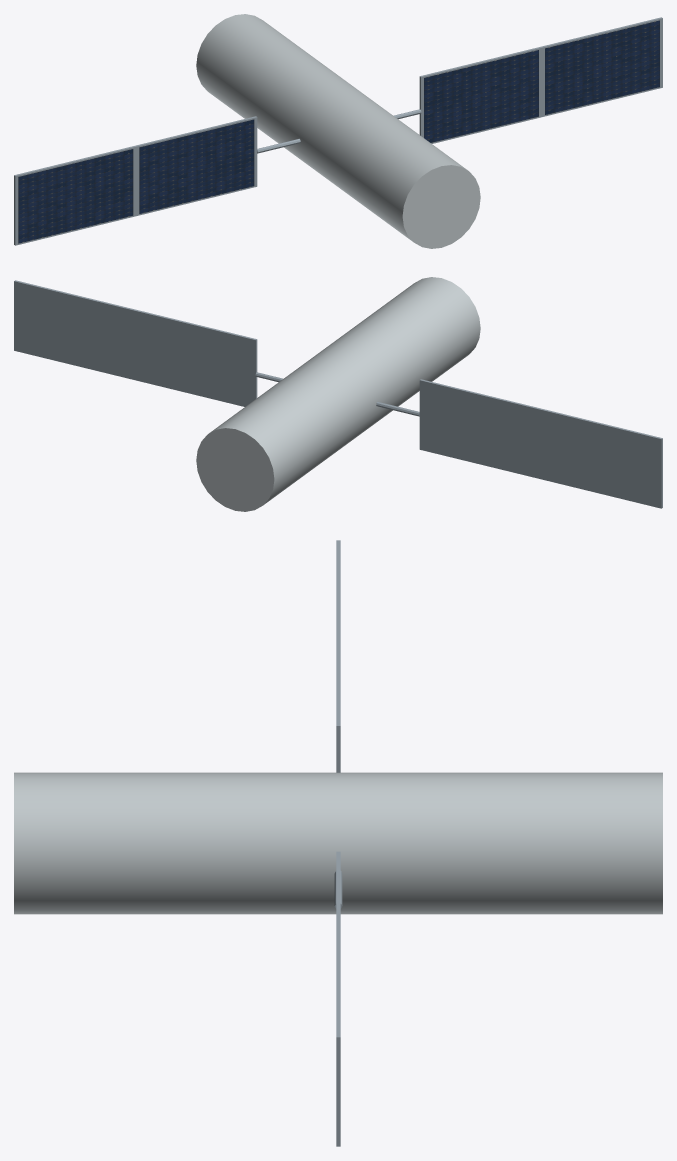
File: ref-resurs-o-14207.glb
3 views of the same model, one above another, from view 1: azimuth 30°, elevation 25°; view 2: azimuth 150°, elevation 25°; view 3: azimuth 270°, elevation 25° (orthographic). The views are drawn at different scales.
Parts seen in each view (by area): view 1: Photovoltaic laminates (×4), Spacecraft body, Array frame (×4); view 2: Array frame (×4), Spacecraft body; view 3: Spacecraft body, Array frame.
Part boxes in pixels (x1,y1,x2,y2): Photovoltaic laminates (×4): (18, 20, 659, 243); Spacecraft body: (196, 14, 480, 248); Array frame (×4): (14, 17, 662, 245); Array frame (×4): (14, 280, 662, 508); Spacecraft body: (196, 277, 480, 511); Spacecraft body: (14, 772, 662, 914); Array frame: (336, 944, 340, 1146).
Bounding box in the file's own units: 11.6 × 1.4 × 6.4.
Materials: 3 (1 with a texture image).
